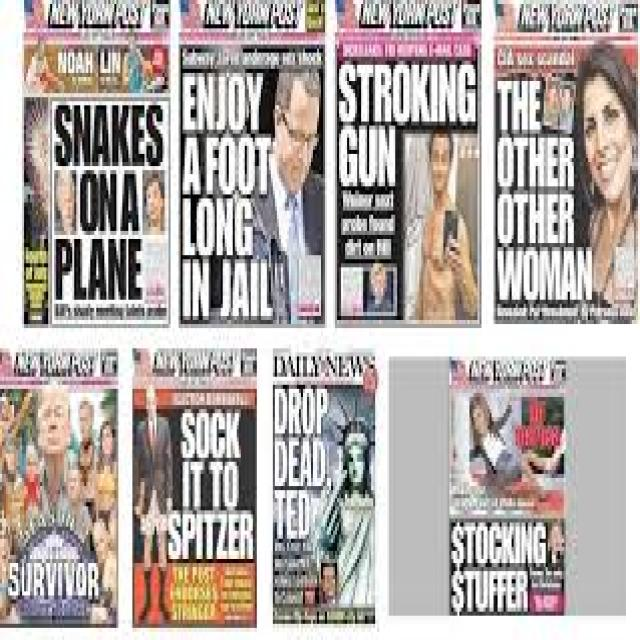paper: (0, 0, 637, 616)
